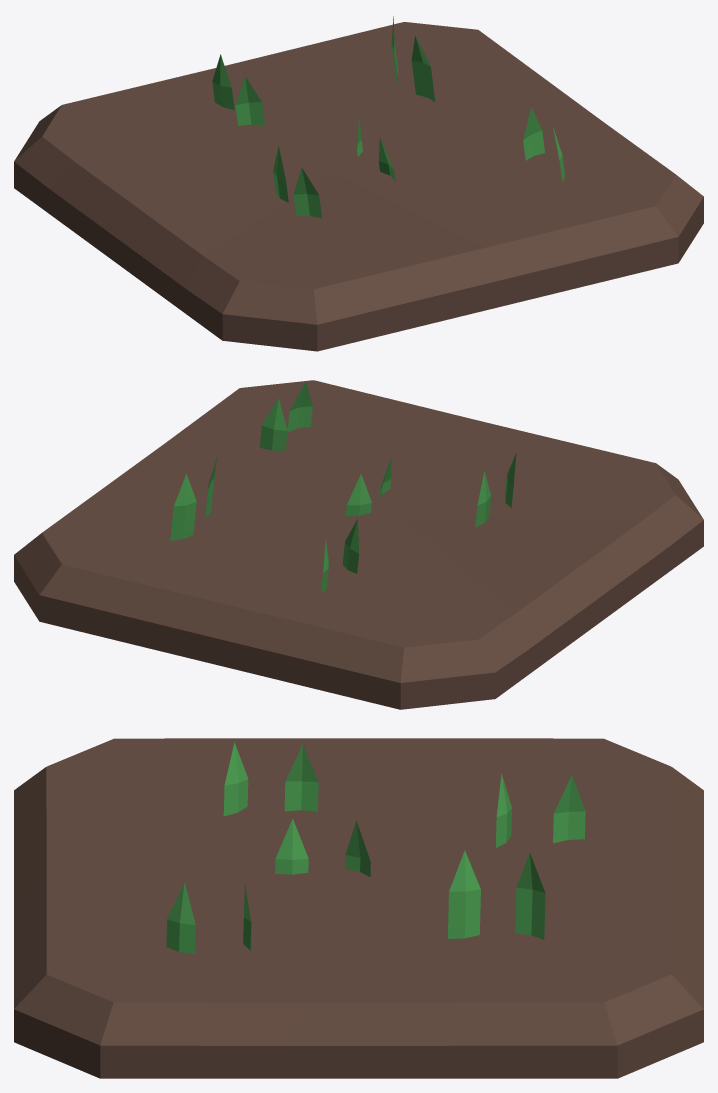
The model's file is Crop_1.fbx.
The picture shows the model from 3 angles, top to bottom: view 1: azimuth 30°, elevation 25°; view 2: azimuth 150°, elevation 25°; view 3: azimuth 270°, elevation 25°; orthographic projection. The views are drawn at different scales.
Visible parts, largest first — view 1: Crop_1; view 2: Crop_1; view 3: Crop_1.
Boxes of the visible parts, <box> form: Crop_1: <box>14,16,703,351</box>; Crop_1: <box>14,380,703,709</box>; Crop_1: <box>14,738,703,1078</box>.
Size of the model in its own units: 1 by 0.2301 by 1.
